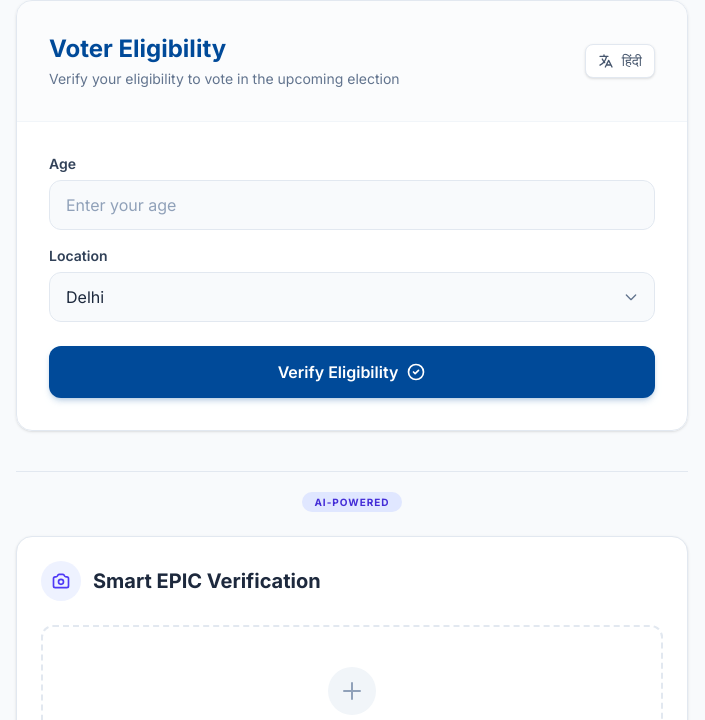
Test case: EligibilityChecker Component › Edge Cases Validation › should show eligible message for age exactly 18
Step 1. Type "18" into the number field labelled "Age" → {"x": 352, "y": 205}, box [49,180,655,230]
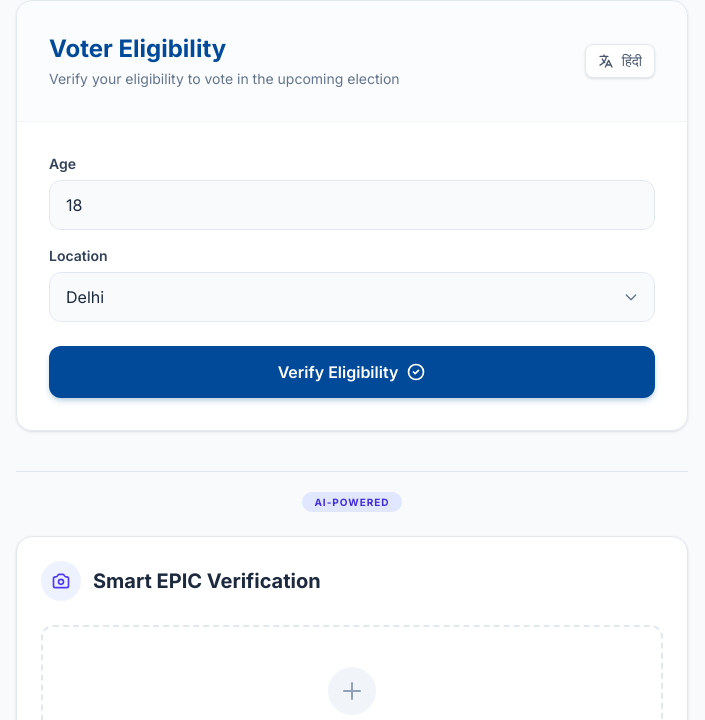
Step 2. Click the button "Verify Eligibility" → {"x": 352, "y": 372}, box [49,346,655,398]
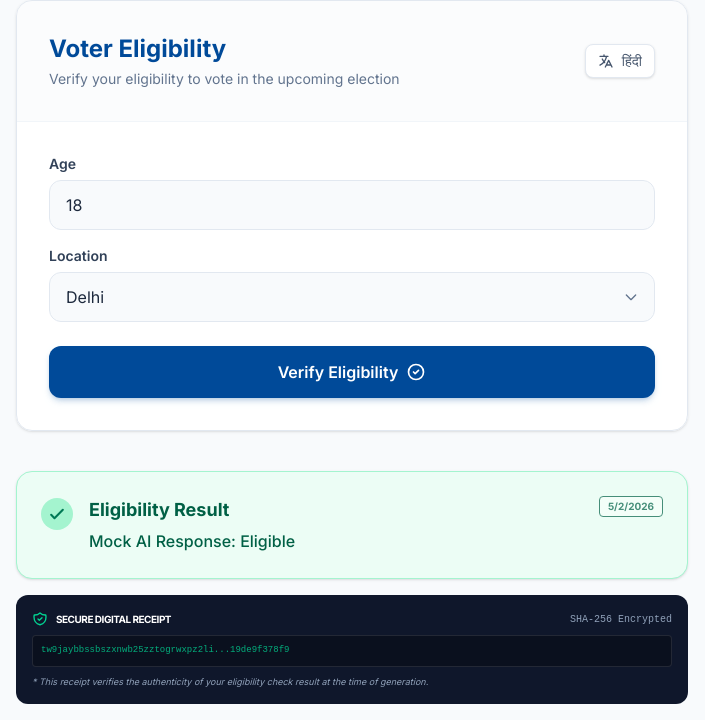
expect the text "Mock AI Response: Eligible" is shown: met, box [89,531,295,551]
